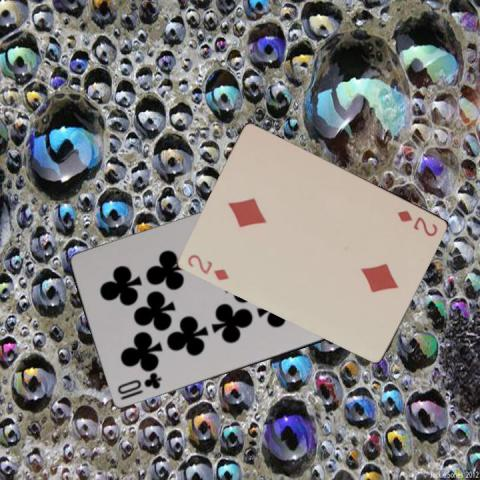10c: (114, 370, 163, 401)
2d: (185, 251, 231, 282), (395, 207, 439, 238)
